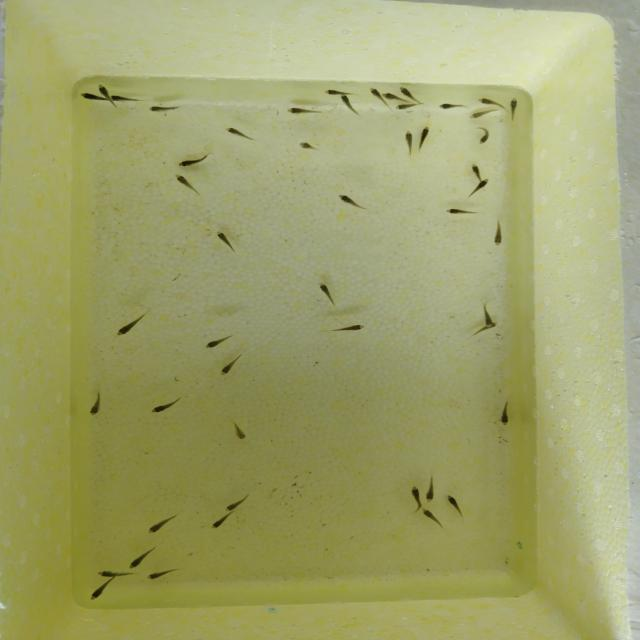fingerling: (110, 310, 154, 338), (146, 394, 188, 417), (125, 544, 157, 570), (214, 354, 250, 377), (212, 228, 241, 255), (334, 192, 373, 212), (83, 389, 108, 420), (143, 514, 181, 534), (170, 172, 202, 195), (202, 332, 240, 351), (493, 396, 517, 426), (222, 125, 258, 144), (224, 492, 257, 512), (175, 152, 211, 169), (315, 280, 338, 306), (85, 581, 113, 602), (338, 97, 364, 118), (442, 205, 484, 218), (421, 507, 444, 530), (226, 418, 248, 442), (444, 491, 465, 516), (280, 105, 323, 117), (468, 178, 490, 200), (330, 322, 370, 334), (490, 219, 507, 247), (468, 325, 500, 339), (424, 477, 441, 503), (209, 513, 233, 531), (418, 125, 432, 155), (408, 483, 422, 513), (475, 125, 494, 147), (147, 568, 179, 580), (146, 105, 184, 115), (401, 129, 415, 156), (93, 570, 136, 578), (469, 109, 499, 120), (508, 95, 520, 121), (479, 301, 492, 325), (393, 101, 424, 111), (435, 102, 469, 110), (109, 95, 139, 104), (296, 140, 318, 152), (475, 96, 500, 106), (468, 161, 483, 177), (322, 88, 350, 96), (366, 86, 380, 98), (79, 91, 94, 102), (398, 85, 413, 96), (381, 91, 397, 101), (96, 84, 110, 94)
